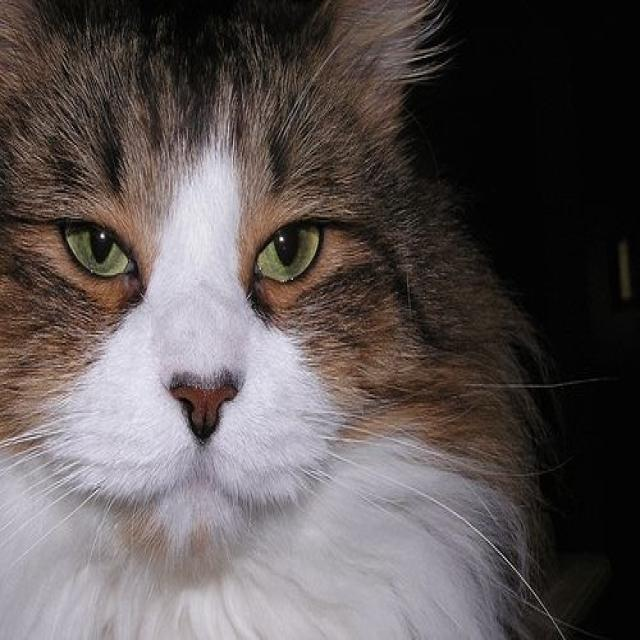Maine_Coon: (0, 0, 435, 585)
